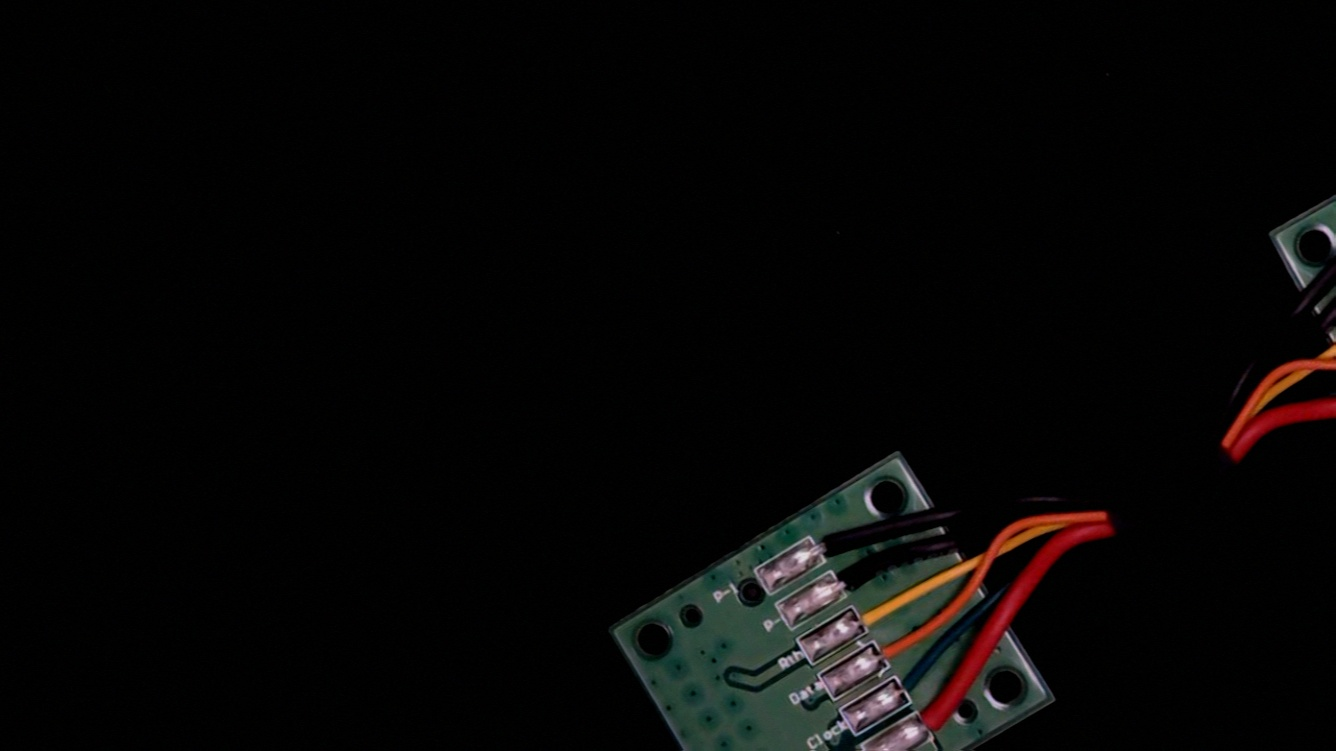Black: (821, 547, 889, 604)
Black1: (798, 512, 867, 570)
Green: (883, 654, 951, 713)
Orange: (864, 619, 931, 675)
Red: (904, 687, 977, 749)
Yellow: (841, 580, 914, 641)
